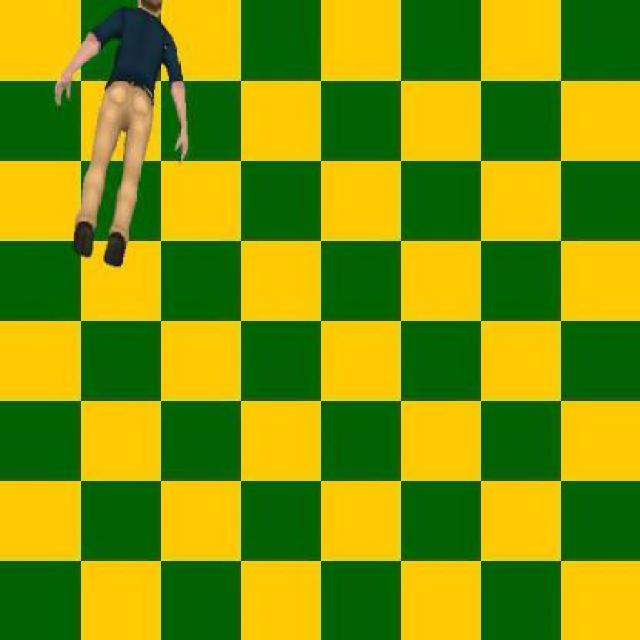Person: (52, 0, 192, 268)
